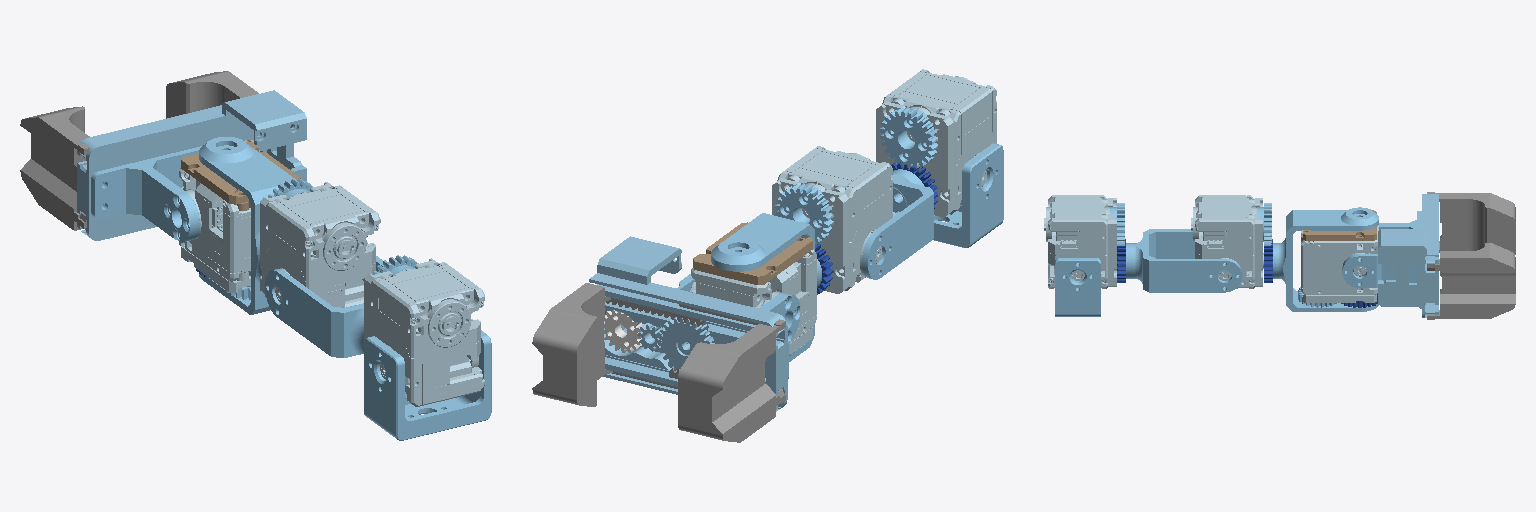
--- What the picture shows (computed from the rendered views, not written in the file) ---
3 views of the same robot in one strip: view 1: azimuth 30°, elevation 25°; view 2: azimuth 150°, elevation 25°; view 3: azimuth 270°, elevation 25° (orthographic).
Model right_arm_gripper with 19 links and 18 joints (10 revolute, 2 prismatic, 6 fixed), rooted at sho_pitch_link, posed all joints at 0.
Links seen in each view (by area): view 1: 2xl430_gears, right_rail_guide, 2xl430_gears_2, sho_pitch_link, right_gripper_connector, rail_2, 2xl430_gears_3, elb_yaw_link, sho_yaw_link, rail, wrist_bearing_plate; view 2: right_rail_guide, rail_2, 2xl430_gears_2, 2xl430_gears, rail, sho_yaw_link, sho_pitch_link, 2xl430_gears_3, elb_yaw_link, spur_1m_24t_drive, wrist_bearing_plate, spur_1m_24t_drive_2 (+2 smaller); view 3: rail, sho_yaw_link, 2xl430_gears_2, 2xl430_gears, right_rail_guide, rail_2, 2xl430_gears_3, elb_yaw_link, sho_pitch_link, right_gripper_connector, wrist_bearing_plate.
Link boxes in pixels (bbox=[...]): 2xl430_gears: bbox=[364, 258, 484, 406]; right_rail_guide: bbox=[77, 90, 306, 240]; 2xl430_gears_2: bbox=[260, 182, 380, 307]; sho_pitch_link: bbox=[364, 330, 491, 440]; right_gripper_connector: bbox=[91, 146, 201, 242]; rail_2: bbox=[20, 106, 89, 230]; 2xl430_gears_3: bbox=[179, 168, 250, 293]; elb_yaw_link: bbox=[199, 137, 294, 314]; sho_yaw_link: bbox=[265, 256, 383, 357]; rail: bbox=[166, 71, 258, 118]; wrist_bearing_plate: bbox=[181, 142, 300, 210]; right_rail_guide: bbox=[589, 236, 787, 411]; rail_2: bbox=[669, 304, 785, 442]; 2xl430_gears_2: bbox=[772, 146, 892, 293]; 2xl430_gears: bbox=[876, 69, 996, 217]; rail: bbox=[532, 283, 704, 406]; sho_yaw_link: bbox=[862, 169, 933, 279]; sho_pitch_link: bbox=[933, 143, 1003, 247]; 2xl430_gears_3: bbox=[690, 249, 816, 354]; elb_yaw_link: bbox=[711, 213, 821, 361]; spur_1m_24t_drive: bbox=[880, 107, 937, 168]; wrist_bearing_plate: bbox=[693, 222, 812, 284]; spur_1m_24t_drive_2: bbox=[775, 184, 833, 242]; rail: bbox=[1427, 243, 1515, 319]; sho_yaw_link: bbox=[1126, 229, 1241, 292]; 2xl430_gears_2: bbox=[1191, 195, 1263, 288]; 2xl430_gears: bbox=[1044, 195, 1116, 288]; right_rail_guide: bbox=[1378, 194, 1438, 317]; rail_2: bbox=[1427, 192, 1515, 254]; 2xl430_gears_3: bbox=[1301, 225, 1378, 302]; elb_yaw_link: bbox=[1273, 207, 1378, 311]; sho_pitch_link: bbox=[1055, 258, 1100, 316]; right_gripper_connector: bbox=[1342, 211, 1421, 287]; wrist_bearing_plate: bbox=[1301, 210, 1376, 241].
Bounding box of the posed robot: 0.0917 × 0.2811 × 0.0652 m (x, y, z).
18 mesh visuals loaded from 19 distinct referenced files (18 binary STL); not drawn: 1 (reference not matched to a file when rendering).

robot.urdf — right_arm_gripper:
<?xml version="1.0" ?><robot name="right_arm_gripper">  
  <link name="sho_pitch_link">    
    <visual>      
      <origin xyz="0 0 0" rpy="0 -0 0"/>      
      <geometry>        
        <mesh filename="package:///meshes/right_sho_pitch_link_visual.stl"/>        
      </geometry>      
      <material name="sho_pitch_link_material">        
        <color rgba="0.61568627450980395466 0.81176470588235294379 0.92941176470588227065 1.0"/>        
      </material>      
    </visual>    
    <collision>      
      <origin xyz="0 0 0" rpy="0 -0 0"/>      
      <geometry>        
        <mesh filename="package:///meshes/right_sho_pitch_link_collision.stl"/>        
      </geometry>      
    </collision>    
    <inertial>      
      <origin xyz="-1.025903438159899119e-18 -2.1966078074444220184e-18 0.012913250798677602602" rpy="0 0 0"/>      
      <mass value="0.0085999999999999982708"/>      
      <inertia ixx="1.8365636406635814379e-06" ixy="-6.8542962956938842179e-57" ixz="1.6528758011273076664e-97" iyy="4.0110869076839152165e-06" iyz="-2.646223959247617687e-46" izz="3.5160516450492493809e-06"/>      
    </inertial>    
  </link>  

  <link name="2xl430_gears">    
    <visual>      
      <origin xyz="0 0 0" rpy="0 -0 0"/>      
      <geometry>        
        <mesh filename="package:///meshes/right_2xl430_gears_visual.stl"/>        
      </geometry>      
      <material name="2xl430_gears_material">        
        <color rgba="0.75914767920569214965 0.85560384745670925444 0.90519468321360607721 1.0"/>        
      </material>      
    </visual>    
    <collision>      
      <origin xyz="0 0 0" rpy="0 -0 0"/>      
      <geometry>        
        <mesh filename="package:///meshes/right_2xl430_gears_collision.stl"/>        
      </geometry>      
    </collision>    
    <inertial>      
      <origin xyz="-0.011592905737969871546 -0.0024238553642591254 -0.018551095523801033882" rpy="0 0 0"/>      
      <mass value="0.11800003674524911501"/>      
      <inertia ixx="2.751102105042425977e-05" ixy="9.0043904315448986704e-07" ixz="-2.3349710125934950303e-08" iyy="3.2796197843344973902e-05" iyz="-6.5715119654550459924e-07" izz="3.5775739835741649474e-05"/>      
    </inertial>    
  </link>  

  <link name="spur_1m_24t_drive">    
    <visual>      
      <origin xyz="0 0 0" rpy="0 -0 0"/>      
      <geometry>        
        <mesh filename="package:///meshes/right_spur_1m_24t_drive_visual.stl"/>        
      </geometry>      
      <material name="spur_1m_24t_drive_material">        
        <color rgba="0.61568627450980395466 0.81176470588235294379 0.92941176470588238168 1.0"/>        
      </material>      
    </visual>    
    <collision>      
      <origin xyz="0 0 0" rpy="0 -0 0"/>      
      <geometry>        
        <mesh filename="package:///meshes/right_spur_1m_24t_drive_collision.stl"/>        
      </geometry>      
    </collision>    
    <inertial>      
      <origin xyz="3.025664367336928198e-15 -3.3912620811388908426e-16 0.0048096451474093030592" rpy="0 0 0"/>      
      <mass value="0.0031999999999999997197"/>      
      <inertia ixx="1.4097598887016953379e-07" ixy="1.5562823148030747737e-15" ixz="4.9083386733534559387e-37" iyy="1.4097598803635996198e-07" iyz="-7.8313401301702503952e-36" izz="2.4107776386988835496e-07"/>      
    </inertial>    
  </link>  

  <joint name="right_sho_yaw_drive" type="revolute">    
    <origin xyz="-0.024000000716125211714 -0.019000000152450634977 -0.019000000152443994456" rpy="1.5707963267945845853 -3.8878566106129928331e-13 1.4443043900105598763e-13"/>    
    <parent link="2xl430_gears"/>    
    <child link="spur_1m_24t_drive"/>    
    <axis xyz="0 0 1"/>    
    <limit effort="1" velocity="20" lower="-2.6179938779914944114" upper="2.6179938779914944114"/>    
    <joint_properties friction="0.0"/>    
  </joint>  

  <link name="spur_1m_24t_driven">    
    <visual>      
      <origin xyz="0 0 0" rpy="0 -0 0"/>      
      <geometry>        
        <mesh filename="package:///meshes/right_spur_1m_24t_driven_visual.stl"/>        
      </geometry>      
      <material name="spur_1m_24t_driven_material">        
        <color rgba="0.23137254901960788156 0.38039215686274502337 0.7058823529411765163 1.0"/>        
      </material>      
    </visual>    
    <collision>      
      <origin xyz="0 0 0" rpy="0 -0 0"/>      
      <geometry>        
        <mesh filename="package:///meshes/right_spur_1m_24t_driven_collision.stl"/>        
      </geometry>      
    </collision>    
    <inertial>      
      <origin xyz="-2.6903043908339046054e-18 -1.6883842059581375051e-15 -0.00097237500038395083268" rpy="0 0 0"/>      
      <mass value="0.0026999999999999997093"/>      
      <inertia ixx="1.2202334915684080498e-07" ixy="-7.5202695051617536346e-39" ixz="-9.7122964183136389045e-37" iyy="1.2202334915684064616e-07" iyz="3.0101263939299255992e-37" izz="2.3180293204341252239e-07"/>      
    </inertial>    
  </link>  

  <link name="sho_yaw_link">    
    <visual>      
      <origin xyz="0 0 0" rpy="0 -0 0"/>      
      <geometry>        
        <mesh filename="package:///meshes/right_sho_yaw_link_visual.stl"/>        
      </geometry>      
      <material name="sho_yaw_link_material">        
        <color rgba="0.61568627450980395466 0.81176470588235294379 0.92941176470588238168 1.0"/>        
      </material>      
    </visual>    
    <collision>      
      <origin xyz="0 0 0" rpy="0 -0 0"/>      
      <geometry>        
        <mesh filename="package:///meshes/right_sho_yaw_link_collision.stl"/>        
      </geometry>      
    </collision>    
    <inertial>      
      <origin xyz="-1.3035740535095388763e-18 2.6069328434191253033e-18 -0.024649285094360089132" rpy="0 0 0"/>      
      <mass value="0.014500000000000007674"/>      
      <inertia ixx="9.2365904614004439553e-06" ixy="3.5862833440690451918e-13" ixz="1.4037596429692567889e-34" iyy="5.8163826335078791714e-06" iyz="7.2531504829235431359e-35" izz="4.5074356741562122031e-06"/>      
    </inertial>    
  </link>  

  <link name="2xl430_gears_2">    
    <visual>      
      <origin xyz="0 0 0" rpy="0 -0 0"/>      
      <geometry>        
        <mesh filename="package:///meshes/right_2xl430_gears_2_visual.stl"/>        
      </geometry>      
      <material name="2xl430_gears_2_material">        
        <color rgba="0.75914767920569214965 0.85560384745670925444 0.90519468321360607721 1.0"/>        
      </material>      
    </visual>    
    <collision>      
      <origin xyz="0 0 0" rpy="0 -0 0"/>      
      <geometry>        
        <mesh filename="package:///meshes/right_2xl430_gears_2_collision.stl"/>        
      </geometry>      
    </collision>    
    <inertial>      
      <origin xyz="-0.011592905737988172879 -0.0024238553642542321788 -0.018551095523808958099" rpy="0 0 0"/>      
      <mass value="0.11800003674524911501"/>      
      <inertia ixx="2.7511021050429741768e-05" ixy="9.0043904315108098294e-07" ixz="-2.3349710123756298845e-08" iyy="3.279619784334769796e-05" iyz="-6.5715119654782462249e-07" izz="3.5775739835745782994e-05"/>      
    </inertial>    
  </link>  

  <link name="spur_1m_24t_drive_2">    
    <visual>      
      <origin xyz="0 0 0" rpy="0 -0 0"/>      
      <geometry>        
        <mesh filename="package:///meshes/right_spur_1m_24t_drive_2_visual.stl"/>        
      </geometry>      
      <material name="spur_1m_24t_drive_2_material">        
        <color rgba="0.61568627450980395466 0.81176470588235294379 0.92941176470588238168 1.0"/>        
      </material>      
    </visual>    
    <collision>      
      <origin xyz="0 0 0" rpy="0 -0 0"/>      
      <geometry>        
        <mesh filename="package:///meshes/right_spur_1m_24t_drive_2_collision.stl"/>        
      </geometry>      
    </collision>    
    <inertial>      
      <origin xyz="3.0256643673369289868e-15 -3.3912620811388933077e-16 0.0048096451474092995898" rpy="0 0 0"/>      
      <mass value="0.0031999999999999997197"/>      
      <inertia ixx="1.409759888701696132e-07" ixy="1.5562823102285579479e-15" ixz="3.1864251529256819123e-36" iyy="1.4097598803635998845e-07" iyz="4.7831225418350163335e-36" izz="2.4107776386988835496e-07"/>      
    </inertial>    
  </link>  

  <joint name="right_elbow_yaw_drive" type="revolute">    
    <origin xyz="-0.024000000716151752983 -0.019000000152454232794 -0.019000000152451821528" rpy="1.5707963267948958919 1.7477870556672354404e-13 -9.1682387447092004362e-14"/>    
    <parent link="2xl430_gears_2"/>    
    <child link="spur_1m_24t_drive_2"/>    
    <axis xyz="0 0 1"/>    
    <limit effort="1" velocity="20" lower="-2.6179938779914944114" upper="2.6179938779914944114"/>    
    <joint_properties friction="0.0"/>    
  </joint>  

  <link name="spur_1m_24t_driven_2">    
    <visual>      
      <origin xyz="0 0 0" rpy="0 -0 0"/>      
      <geometry>        
        <mesh filename="package:///meshes/right_spur_1m_24t_driven_2_visual.stl"/>        
      </geometry>      
      <material name="spur_1m_24t_driven_2_material">        
        <color rgba="0.23137254901960788156 0.38039215686274502337 0.7058823529411765163 1.0"/>        
      </material>      
    </visual>    
    <collision>      
      <origin xyz="0 0 0" rpy="0 -0 0"/>      
      <geometry>        
        <mesh filename="package:///meshes/right_spur_1m_24t_driven_2_collision.stl"/>        
      </geometry>      
    </collision>    
    <inertial>      
      <origin xyz="-6.1597513427874779645e-18 -1.6883842059581355329e-15 -0.00097237500038395083268" rpy="0 0 0"/>      
      <mass value="0.0026999999999999997093"/>      
      <inertia ixx="1.2202334915684080498e-07" ixy="-9.6101422754722651111e-38" ixz="8.4623098523152896242e-37" iyy="1.2202334915684064616e-07" iyz="-3.9602970122970728784e-37" izz="2.3180293204341252239e-07"/>      
    </inertial>    
  </link>  

  <link name="elb_yaw_link">    
    <visual>      
      <origin xyz="0 0 0" rpy="0 -0 0"/>      
      <geometry>        
        <mesh filename="package:///meshes/right_elb_yaw_link_visual.stl"/>        
      </geometry>      
      <material name="elb_yaw_link_material">        
        <color rgba="0.61568627450980395466 0.81176470588235294379 0.92941176470588227065 1.0"/>        
      </material>      
    </visual>    
    <collision>      
      <origin xyz="0 0 0" rpy="0 -0 0"/>      
      <geometry>        
        <mesh filename="package:///meshes/right_elb_yaw_link_collision.stl"/>        
      </geometry>      
    </collision>    
    <inertial>      
      <origin xyz="5.3127688027774929136e-08 0.0019833638641961683254 -0.02341664355154993854" rpy="0 0 0"/>      
      <mass value="0.017500000000000005135"/>      
      <inertia ixx="1.4134344903109199776e-05" ixy="1.6945783922006116668e-12" ixz="-1.1286398721833140765e-11" iyy="6.6435900776211340404e-06" iyz="1.0545227077253051227e-06" izz="8.9925290757998993713e-06"/>      
    </inertial>    
  </link>  

  <link name="spur_1m_24t_driven_3">    
    <visual>      
      <origin xyz="0 0 0" rpy="0 -0 0"/>      
      <geometry>        
        <mesh filename="package:///meshes/right_spur_1m_24t_driven_3_visual.stl"/>        
      </geometry>      
      <material name="spur_1m_24t_driven_3_material">        
        <color rgba="0.23137254901960788156 0.38039215686274502337 0.7058823529411765163 1.0"/>        
      </material>      
    </visual>    
    <collision>      
      <origin xyz="0 0 0" rpy="0 -0 0"/>      
      <geometry>        
        <mesh filename="package:///meshes/right_spur_1m_24t_driven_3_collision.stl"/>        
      </geometry>      
    </collision>    
    <inertial>      
      <origin xyz="-2.6903043908341965764e-18 -1.6883842059581323775e-15 -0.0025723750003839584988" rpy="0 0 0"/>      
      <mass value="0.0026999999999999997093"/>      
      <inertia ixx="1.2202334915684080498e-07" ixy="2.231932919232387326e-36" ixz="-3.589586999908922078e-36" iyy="1.2202334915684064616e-07" iyz="-8.4826237080281112215e-37" izz="2.3180293204341252239e-07"/>      
    </inertial>    
  </link>  

  <link name="2xl430_gears_3">    
    <visual>      
      <origin xyz="0 0 0" rpy="0 -0 0"/>      
      <geometry>        
        <mesh filename="package:///meshes/right_2xl430_gears_3_visual.stl"/>        
      </geometry>      
      <material name="2xl430_gears_3_material">        
        <color rgba="0.75914767920569214965 0.85560384745670925444 0.90519468321360607721 1.0"/>        
      </material>      
    </visual>    
    <collision>      
      <origin xyz="0 0 0" rpy="0 -0 0"/>      
      <geometry>        
        <mesh filename="package:///meshes/right_2xl430_gears_3_collision.stl"/>        
      </geometry>      
    </collision>    
    <inertial>      
      <origin xyz="0.00044890447619794031624 0.011592905379918107961 -0.024576144788203212188" rpy="0 0 0"/>      
      <mass value="0.11800003674524911501"/>      
      <inertia ixx="3.577573983574401439e-05" ixy="2.3349710124509476571e-08" ixz="6.5715119654835825324e-07" iyy="2.7511021050427600468e-05" iyz="9.0043904315010996554e-07" izz="3.2796197843347650526e-05"/>      
    </inertial>    
  </link>  

  <link name="spur_1m_24t_drive_3">    
    <visual>      
      <origin xyz="0 0 0" rpy="0 -0 0"/>      
      <geometry>        
        <mesh filename="package:///meshes/right_spur_1m_24t_drive_3_visual.stl"/>        
      </geometry>      
      <material name="spur_1m_24t_drive_3_material">        
        <color rgba="0.61568627450980395466 0.81176470588235294379 0.92941176470588238168 1.0"/>        
      </material>      
    </visual>    
    <collision>      
      <origin xyz="0 0 0" rpy="0 -0 0"/>      
      <geometry>        
        <mesh filename="package:///meshes/right_spur_1m_24t_drive_3_collision.stl"/>        
      </geometry>      
    </collision>    
    <inertial>      
      <origin xyz="3.0326032612408362152e-15 -3.3912620811388938008e-16 0.0048096451474093030592" rpy="0 0 0"/>      
      <mass value="0.0031999999999999997197"/>      
      <inertia ixx="1.409759888701696132e-07" ixy="1.5562823122431795239e-15" ixz="-1.8572195602335046921e-36" iyy="1.4097598803636004139e-07" iyz="-5.1564949409002944743e-36" izz="2.4107776386988835496e-07"/>      
    </inertial>    
  </link>  

  <joint name="right_wrist_pitch_drive" type="revolute">    
    <origin xyz="-1.5244743462520761815e-10 0.024000000358078144025 -0.00800000000000324063" rpy="8.069763475456953763e-15 9.1324000374499454386e-14 -1.5707963267947369079"/>    
    <parent link="2xl430_gears_3"/>    
    <child link="spur_1m_24t_drive_3"/>    
    <axis xyz="0 0 1"/>    
    <limit effort="1" velocity="20" lower="-1.3962634015954635824" upper="1.9198621771937625091"/>    
    <joint_properties friction="0.0"/>    
  </joint>  

  <link name="right_gripper_connector">    
    <visual>      
      <origin xyz="0 0 0" rpy="0 -0 0"/>      
      <geometry>        
        <mesh filename="package:///meshes/right_gripper_connector_visual.stl"/>        
      </geometry>      
      <material name="right_gripper_connector_material">        
        <color rgba="0.61568627450980395466 0.81176470588235294379 0.9294117647058824927 1.0"/>        
      </material>      
    </visual>    
    <collision>      
      <origin xyz="0 0 0" rpy="0 -0 0"/>      
      <geometry>        
        <mesh filename="package:///meshes/right_gripper_connector_collision.stl"/>        
      </geometry>      
    </collision>    
    <inertial>      
      <origin xyz="0.00018842172662807132877 0.02250816247592088773 -0.027103952515809076607" rpy="0 0 0"/>      
      <mass value="0.011581129243776610779"/>      
      <inertia ixx="6.8857197111200847309e-06" ixy="-2.8349511201291439477e-08" ixz="-4.6706046180876152983e-08" iyy="4.9339924371223853466e-06" iyz="5.3102503504137602422e-07" izz="2.857022023644606766e-06"/>      
    </inertial>    
  </link>  

  <link name="right_rail_guide">    
    <visual>      
      <origin xyz="0 0 0" rpy="0 -0 0"/>      
      <geometry>        
        <mesh filename="package:///meshes/right_rail_guide_visual.stl"/>        
      </geometry>      
      <material name="right_rail_guide_material">        
        <color rgba="0.63183631947442864263 0.80464761899488645991 0.89969354135356638391 1.0"/>        
      </material>      
    </visual>    
    <collision>      
      <origin xyz="0 0 0" rpy="0 -0 0"/>      
      <geometry>        
        <mesh filename="package:///meshes/right_rail_guide_collision.stl"/>        
      </geometry>      
    </collision>    
    <inertial>      
      <origin xyz="0.010819769137967559167 -0.0021113011985218642017 -7.7620928513507297724e-05" rpy="0 0 0"/>      
      <mass value="0.031084136786219598164"/>      
      <inertia ixx="7.8430666236070279329e-06" ixy="-2.064451767957415678e-06" ixz="4.0045882799668585674e-06" iyy="2.7294704119451739579e-05" iyz="8.8949075530050679409e-07" izz="3.0492488744516627947e-05"/>      
    </inertial>    
  </link>  

  <link name="rail">    
    <visual>      
      <origin xyz="0 0 0" rpy="0 -0 0"/>      
      <geometry>        
        <mesh filename="package:///meshes/right_rail_visual.stl"/>        
      </geometry>      
      <material name="rail_material">        
        <color rgba="0.64705882352941179736 0.64705882352941179736 0.64705882352941179736 1.0"/>        
      </material>      
    </visual>    
    <collision>      
      <origin xyz="0 0 0" rpy="0 -0 0"/>      
      <geometry>        
        <mesh filename="package:///meshes/right_rail_collision.stl"/>        
      </geometry>      
    </collision>    
    <inertial>      
      <origin xyz="0.029506549511750319176 -0.015932823905721999608 -0.010527873318605746045" rpy="0 0 0"/>      
      <mass value="0.017100000000000007555"/>      
      <inertia ixx="3.6539450928192396354e-06" ixy="2.1092288739438398891e-08" ixz="-1.1722367407071777491e-07" iyy="4.7510522653474580835e-06" iyz="3.1475054982591100515e-08" izz="6.1158569967957946884e-06"/>      
    </inertial>    
  </link>  

  <joint name="right_gripper_pinion" type="prismatic">    
    <origin xyz="-0.028872600000004956106 -0.015974999999999985739 -0.0053500000000001324274" rpy="-3.141592653589793116 1.5707963267948954478 0"/>    
    <parent link="right_rail_guide"/>    
    <child link="rail"/>    
    <axis xyz="0 0 1"/>    
    <limit effort="1" velocity="20" lower="-0.025000000000000001388" upper="0"/>    
    <joint_properties friction="0.0"/>    
  </joint>  

  <link name="rail_2">    
    <visual>      
      <origin xyz="0 0 0" rpy="0 -0 0"/>      
      <geometry>        
        <mesh filename="package:///meshes/right_rail_2_visual.stl"/>        
      </geometry>      
      <material name="rail_2_material">        
        <color rgba="0.64705882352941179736 0.64705882352941179736 0.64705882352941179736 1.0"/>        
      </material>      
    </visual>    
    <collision>      
      <origin xyz="0 0 0" rpy="0 -0 0"/>      
      <geometry>        
        <mesh filename="package:///meshes/right_rail_2_collision.stl"/>        
      </geometry>      
    </collision>    
    <inertial>      
      <origin xyz="0.029506549511750319176 -0.015932823905721999608 -0.010527873318605746045" rpy="0 0 0"/>      
      <mass value="0.017100000000000007555"/>      
      <inertia ixx="3.6539450928192396354e-06" ixy="2.1092288739438398891e-08" ixz="-1.1722367407071777491e-07" iyy="4.7510522653474580835e-06" iyz="3.1475054982591100515e-08" izz="6.1158569967957946884e-06"/>      
    </inertial>    
  </link>  

  <joint name="right_gripper_pinion_mirror" type="prismatic">    
    <origin xyz="0.062872599999991965469 0.015974999999999989209 -0.0053500000000001046718" rpy="-1.1102230245948772979e-15 1.570796326794896336 0"/>    
    <parent link="right_rail_guide"/>    
    <child link="rail_2"/>    
    <axis xyz="0 0 1"/>    
    <limit effort="1" velocity="20" lower="-0.025000000000000001388" upper="0"/>    
    <joint_properties friction="0.0"/>    
  </joint>  

  <link name="xc330">    
    <visual>      
      <origin xyz="0 0 0" rpy="0 -0 0"/>      
      <geometry>        
        <mesh filename="package:///meshes/right_xc330_visual.stl"/>        
      </geometry>      
      <material name="xc330_material">        
        <color rgba="0.66932535752643762539 0.72911795671409951325 0.67547870389434383487 1.0"/>        
      </material>      
    </visual>    
    <collision>      
      <origin xyz="0 0 0" rpy="0 -0 0"/>      
      <geometry>        
        <mesh filename="package:///meshes/right_xc330_collision.stl"/>        
      </geometry>      
    </collision>    
    <inertial>      
      <origin xyz="0.0080045171539642346464 -0.015558009851635244344 -0.011717805512818375846" rpy="0 0 0"/>      
      <mass value="0.026599999993091760775"/>      
      <inertia ixx="3.8683410666514153245e-06" ixy="-7.7688424002196544676e-10" ixz="5.7969695836940933668e-10" iyy="2.1626767907494822169e-06" iyz="8.3590274790334193691e-09" izz="3.3158761130055984099e-06"/>      
    </inertial>    
  </link>  

  <link name="spur_gear_(18_teeth)">    
    <visual>      
      <origin xyz="0 0 0" rpy="0 -0 0"/>      
      <geometry>        
        <mesh filename="package:///meshes/right_spur_gear_(18_teeth)_visual.stl"/>        
      </geometry>      
      <material name="spur_gear_(18_teeth)_material">        
        <color rgba="0.9176470588235294823 0.9176470588235294823 0.9176470588235294823 1.0"/>        
      </material>      
    </visual>    
    <collision>      
      <origin xyz="0 0 0" rpy="0 -0 0"/>      
      <geometry>        
        <mesh filename="package:///meshes/right_spur_gear_(18_teeth)_collision.stl"/>        
      </geometry>      
    </collision>    
    <inertial>      
      <origin xyz="5.898059818321144121e-17 -3.8163916471489756077e-17 -0.0025000000000000078583" rpy="0 0 0"/>      
      <mass value="0.0012999999999999997235"/>      
      <inertia ixx="3.3282842836137711586e-08" ixy="-1.6157412902963702173e-22" ixz="-1.6954054082600917368e-37" iyy="3.328284283613746674e-08" iyz="-1.2037569061826693386e-37" izz="6.1149428795799502273e-08"/>      
    </inertial>    
  </link>  

  <joint name="right_gripper_rack" type="revolute">    
    <origin xyz="0.0079999999999999966971 -0.022499999999999999167 -0.025999999999999995337" rpy="-1.9467615473171844649e-15 8.2694607974279207232e-16 -3.141592653589793116"/>    
    <parent link="xc330"/>    
    <child link="spur_gear_(18_teeth)"/>    
    <axis xyz="0 0 1"/>    
    <limit effort="1" velocity="20" lower="0" upper="2.7052603405912107881"/>    
    <joint_properties friction="0.0"/>    
  </joint>  

  <joint name="right_gripper_motor" type="fixed">    
    <origin xyz="-0.0059500000000000143052 -0.022599999999999970807 0.023299999999999904121" rpy="3.3306690735073560615e-16 5.4882416367019373586e-30 3.141592653589793116"/>    
    <parent link="right_rail_guide"/>    
    <child link="xc330"/>    
    <axis xyz="0 0 1"/>    
    <limit effort="1" velocity="20"/>    
    <joint_properties friction="0.0"/>    
  </joint>  

  <joint name="right_gripper_fixed" type="fixed">    
    <origin xyz="3.4694469519536141888e-18 0.036999999999999949596 -0.0019999999999999983069" rpy="1.57079632679489678 1.570796326794896558 0"/>    
    <parent link="right_gripper_connector"/>    
    <child link="right_rail_guide"/>    
    <axis xyz="0 0 1"/>    
    <limit effort="1" velocity="20"/>    
    <joint_properties friction="0.0"/>    
  </joint>  

  <joint name="right_wrist_roll" type="revolute">    
    <origin xyz="0.01900000000000664005 -3.580644114542508305e-10 -0.027000000152457920982" rpy="-3.141592653589678541 -1.5707963267947711028 0"/>    
    <parent link="2xl430_gears_3"/>    
    <child link="right_gripper_connector"/>    
    <axis xyz="0 0 1"/>    
    <limit effort="1" velocity="20" lower="-1.3962634015954635824" upper="1.9198621771937625091"/>    
    <joint_properties friction="0.0"/>    
  </joint>  

  <link name="wrist_bearing_plate">    
    <visual>      
      <origin xyz="0 0 0" rpy="0 -0 0"/>      
      <geometry>        
        <mesh filename="package:///meshes/right_wrist_bearing_plate_visual.stl"/>        
      </geometry>      
      <material name="wrist_bearing_plate_material">        
        <color rgba="0.71932243125689054875 0.63128434304969727187 0.52422389360984933404 1.0"/>        
      </material>      
    </visual>    
    <collision>      
      <origin xyz="0 0 0" rpy="0 -0 0"/>      
      <geometry>        
        <mesh filename="package:///meshes/right_wrist_bearing_plate_collision.stl"/>        
      </geometry>      
    </collision>    
    <inertial>      
      <origin xyz="-0.0075835583121499862067 -0.015499999999999973868 -0.0018386323705903283732" rpy="0 0 0"/>      
      <mass value="0.0049000367468305557062"/>      
      <inertia ixx="4.9707430109150118544e-07" ixy="6.8935098125362983557e-23" ixz="1.8100904820814088187e-08" iyy="7.1268523603538553059e-07" iyz="8.3942214856969390033e-24" izz="1.1919657811600107117e-06"/>      
    </inertial>    
  </link>  

  <joint name="right_wrist_pitch_fixed" type="fixed">    
    <origin xyz="0.015500000000004515374 1.304512053934558935e-14 -0.045000000000009962586" rpy="3.9631081880071986636e-14 1.863648124711484177e-13 -1.5707963267947884223"/>    
    <parent link="2xl430_gears_3"/>    
    <child link="wrist_bearing_plate"/>    
    <axis xyz="0 0 1"/>    
    <limit effort="1" velocity="20"/>    
    <joint_properties friction="0.0"/>    
  </joint>  

  <joint name="right_wrist_pitch_driven" type="revolute">    
    <origin xyz="-2.7755575615628913511e-17 -3.1554436208840472216e-30 -0.0016000000000000002935" rpy="-1.1934897514294935042e-15 1.8375891793575620296e-15 1.570796326794896558"/>    
    <parent link="spur_1m_24t_driven_3"/>    
    <child link="2xl430_gears_3"/>    
    <axis xyz="0 0 1"/>    
    <limit effort="1" velocity="20" lower="-1.9198621771937625091" upper="1.3962634015954635824"/>    
    <joint_properties friction="0.0"/>    
  </joint>  

  <joint name="right_wrist_roll_fixed" type="fixed">    
    <origin xyz="3.1554436208840472216e-30 -0.025299999999999996103 -0.052000000000000046185" rpy="1.5707963267949101027 1.5707963267948952257 0"/>    
    <parent link="elb_yaw_link"/>    
    <child link="spur_1m_24t_driven_3"/>    
    <axis xyz="0 0 1"/>    
    <limit effort="1" velocity="20"/>    
    <joint_properties friction="0.0"/>    
  </joint>  

  <joint name="right_elbow_yaw_fixed" type="fixed">    
    <origin xyz="-3.4694469519536141888e-18 -3.1554436208840472216e-30 0.0016000000000000041966" rpy="3.1415926535897855665 1.5297616651876714591e-29 -1.570796326794896558"/>    
    <parent link="spur_1m_24t_driven_2"/>    
    <child link="elb_yaw_link"/>    
    <axis xyz="0 0 1"/>    
    <limit effort="1" velocity="20"/>    
    <joint_properties friction="0.0"/>    
  </joint>  

  <joint name="right_elbow_yaw_driven" type="revolute">    
    <origin xyz="-3.5807152728994928736e-10 -0.027000000152460734704 -0.019000000000000859951" rpy="1.570796326794971387 5.5367576271342058455e-14 -5.1702916183233091503e-14"/>    
    <parent link="2xl430_gears_2"/>    
    <child link="spur_1m_24t_driven_2"/>    
    <axis xyz="0 0 1"/>    
    <limit effort="1" velocity="20" lower="-2.6179938779914944114" upper="2.6179938779914944114"/>    
    <joint_properties friction="0.0"/>    
  </joint>  

  <joint name="right_elbow_roll" type="revolute">    
    <origin xyz="3.4694469519536141888e-18 -0.019000000000000002998 -0.059000000000000024647" rpy="1.570796326794896558 -2.6218732386441631156e-13 -7.7212919731057644387e-15"/>    
    <parent link="sho_yaw_link"/>    
    <child link="2xl430_gears_2"/>    
    <axis xyz="0 0 1"/>    
    <limit effort="1" velocity="20" lower="-1.9198621771937625091" upper="2.4434609527920612138"/>    
    <joint_properties friction="0.0"/>    
  </joint>  

  <joint name="right_sho_yaw_fixed" type="fixed">    
    <origin xyz="0 -4.7331654313260708325e-30 0.0016000000000000007272" rpy="-3.141592653589793116 1.7700066560927631275e-29 -1.0986951234488409468e-30"/>    
    <parent link="spur_1m_24t_driven"/>    
    <child link="sho_yaw_link"/>    
    <axis xyz="0 0 1"/>    
    <limit effort="1" velocity="20"/>    
    <joint_properties friction="0.0"/>    
  </joint>  

  <joint name="right_sho_yaw_driven" type="revolute">    
    <origin xyz="-3.5806386328163242183e-10 -0.027000000152443980744 -0.018999999999992155109" rpy="1.5707963267946665198 -2.3210543497560860027e-13 5.9014074947453606692e-14"/>    
    <parent link="2xl430_gears"/>    
    <child link="spur_1m_24t_driven"/>    
    <axis xyz="0 0 1"/>    
    <limit effort="1" velocity="20" lower="-2.6179938779914944114" upper="2.6179938779914944114"/>    
    <joint_properties friction="0.0"/>    
  </joint>  

  <joint name="right_sho_roll" type="revolute">    
    <origin xyz="-0.018999999999999996059 9.2807416730536686391e-18 0.027000000000000006634" rpy="-3.141592653589793116 1.5707963267947577801 0"/>    
    <parent link="sho_pitch_link"/>    
    <child link="2xl430_gears"/>    
    <axis xyz="0 0 1"/>    
    <limit effort="1" velocity="20" lower="-1.570796326794896558" upper="0.34906585039886589561"/>    
    <joint_properties friction="0.0"/>    
  </joint>  


</robot>
